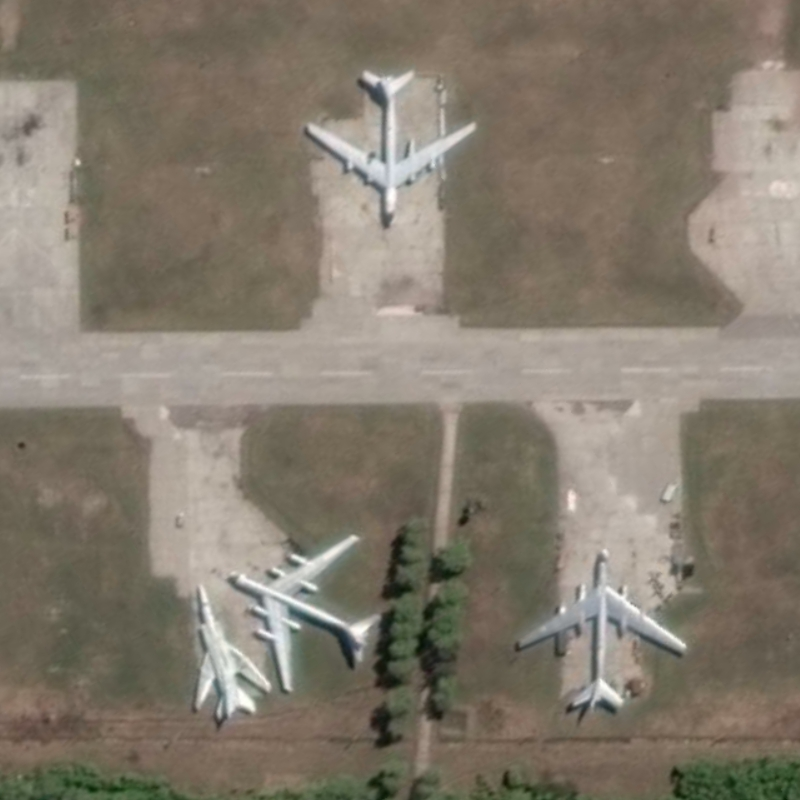A12: (191, 581, 274, 723)
A17: (515, 546, 690, 713), (304, 67, 480, 230), (225, 532, 384, 696)
